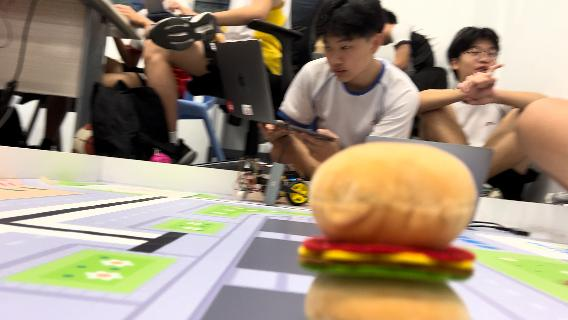burger: (296, 138, 483, 320)
